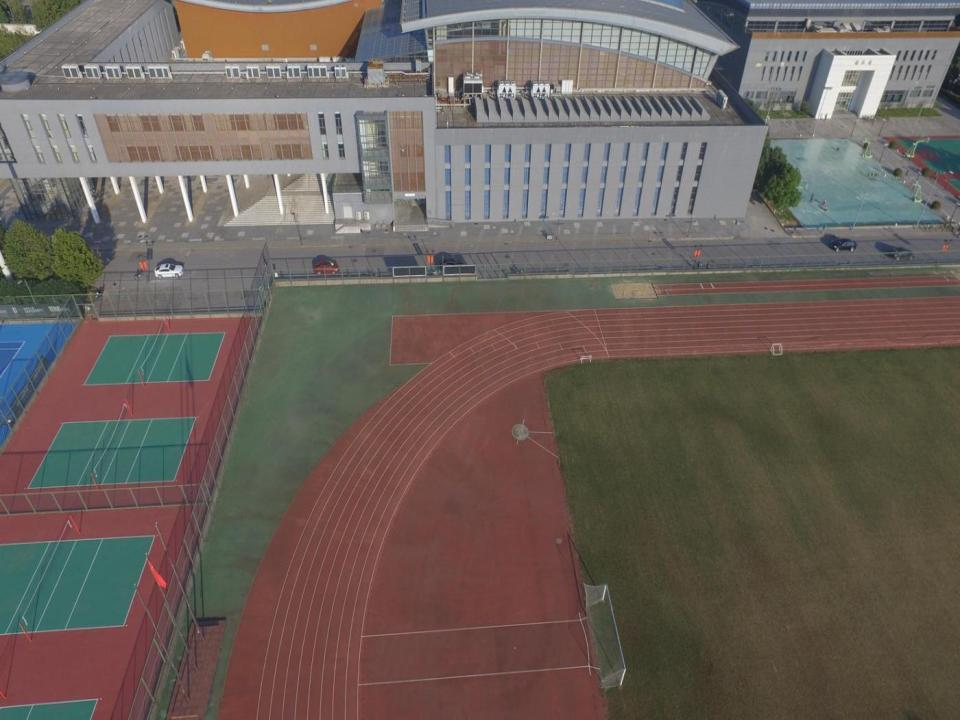car: (153, 262, 184, 278), (312, 258, 341, 275), (829, 237, 859, 252), (890, 246, 916, 259), (442, 255, 465, 269)
